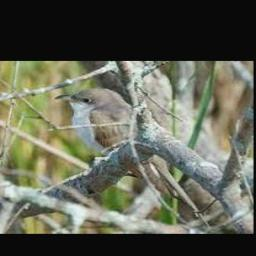Cuckoo: (54, 88, 191, 203)
